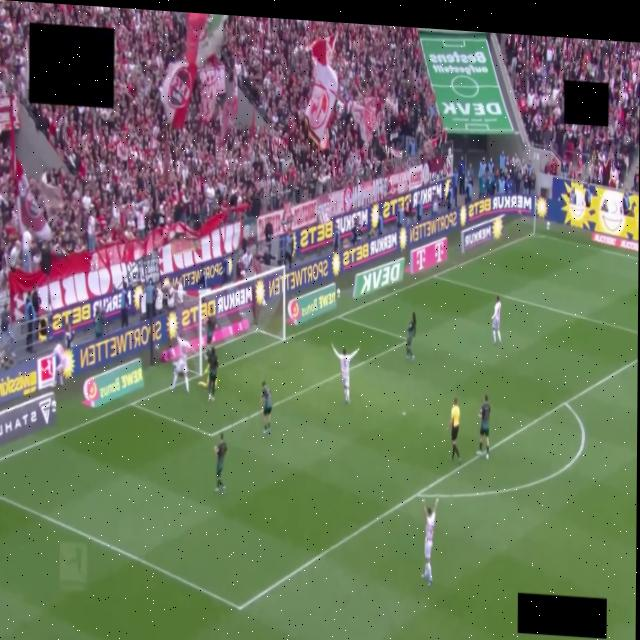player: (332, 345, 358, 404), (421, 500, 437, 586), (171, 337, 191, 392), (198, 347, 217, 400), (214, 433, 227, 493), (479, 394, 489, 458), (260, 381, 272, 434), (206, 347, 217, 400), (53, 344, 66, 386), (491, 297, 501, 344), (406, 313, 415, 360), (206, 316, 216, 346), (64, 323, 73, 349)
referee: (449, 398, 460, 462)
